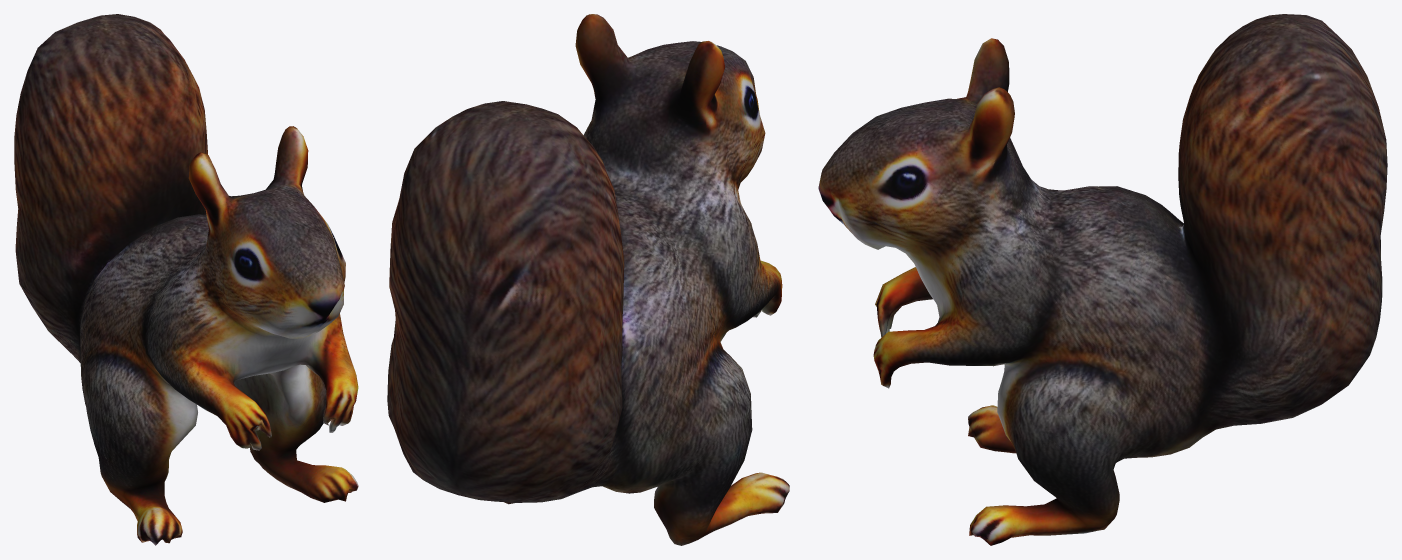
Rendered from squirrel.gltf.
The picture shows the model from 3 angles, left to right: view 1: azimuth 30°, elevation 25°; view 2: azimuth 150°, elevation 25°; view 3: azimuth 270°, elevation 25°; orthographic projection. The views are drawn at different scales.
Visible parts, largest first — view 1: mesh.001; view 2: mesh.001; view 3: mesh.001.
Boxes of the visible parts, box(x1,y1,x2,y2) form: mesh.001: box(14, 14, 358, 545); mesh.001: box(387, 14, 789, 545); mesh.001: box(818, 14, 1387, 545).
Bounding box in the file's own units: 0.5088 × 0.8942 × 0.9982.
Materials: 1 (1 with a texture image).
